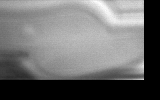cell: (16, 20, 39, 40)
